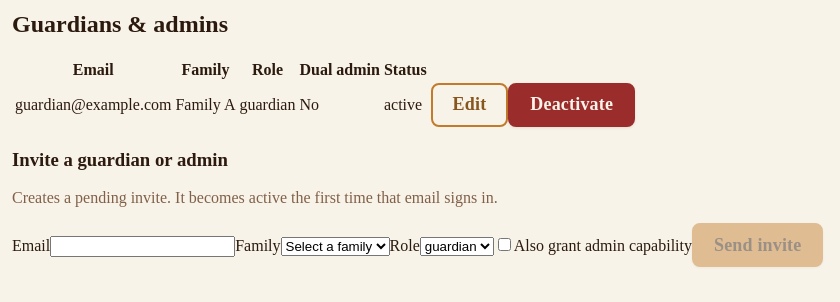
Test: UsersTab › shows the self-lockout forbidden message when saving an edit fails with 403
Click the button "Edit". click: (469, 105)
box: [431,83,508,127]
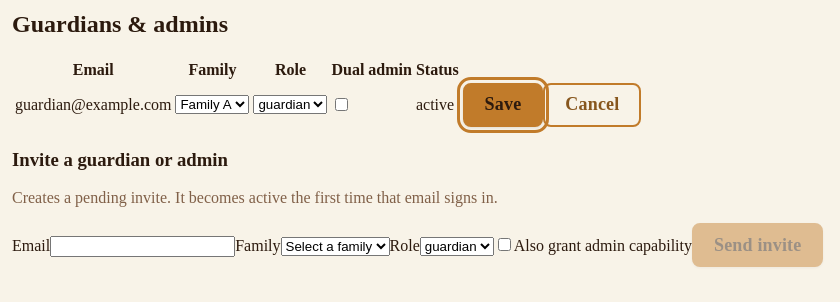
Click the button "Save". click: (503, 105)
box: [463,83,543,127]
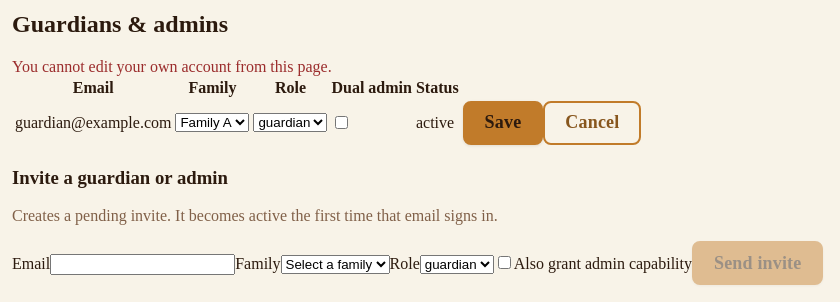
Check: the message shows "cannot edit your own account", box [12,58,332,75]
